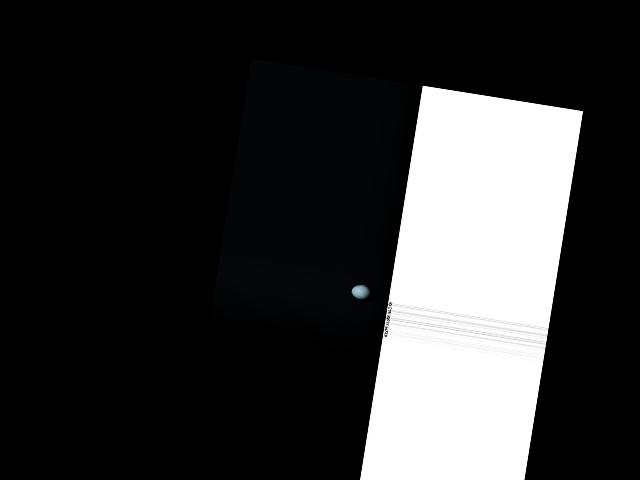egg: (350, 283, 371, 301)
